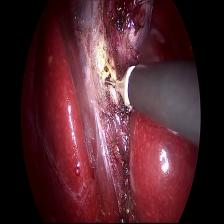Hook: (103, 62, 138, 115)
